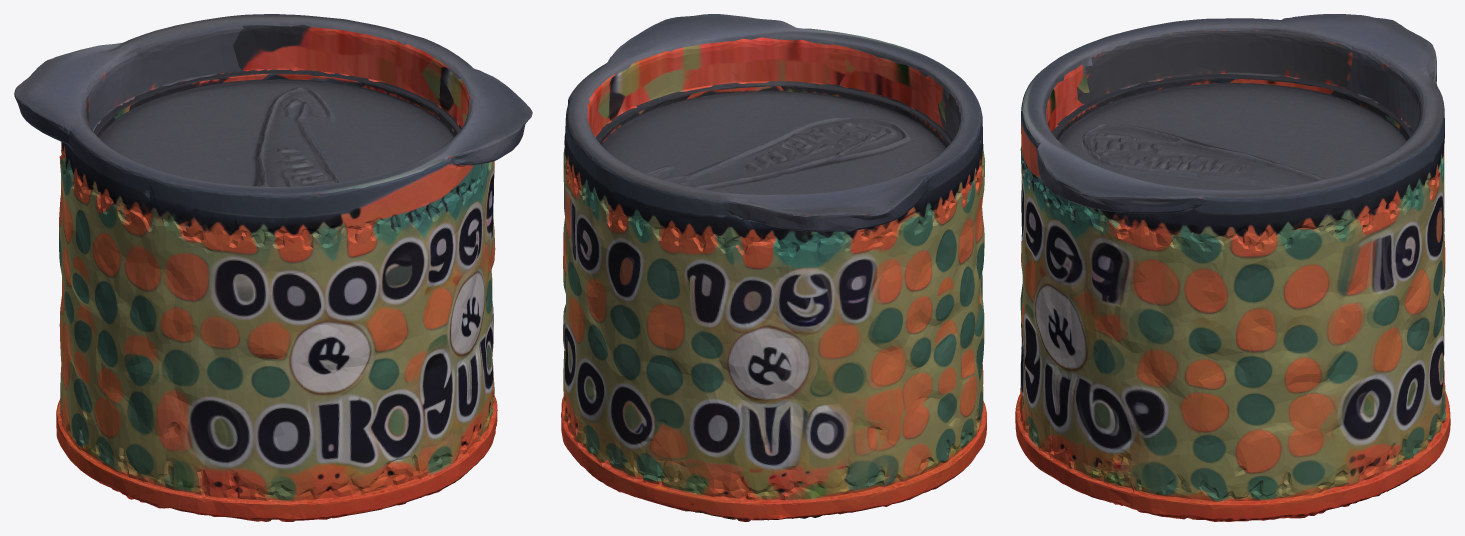
The model's file is image_0003_segmented.glb.
3 views of the same model, side by side, from view 1: azimuth 30°, elevation 25°; view 2: azimuth 150°, elevation 25°; view 3: azimuth 270°, elevation 25° (orthographic). The views are drawn at different scales.
Visible parts, largest first — view 1: tmpyavmoesc.ply; view 2: tmpyavmoesc.ply; view 3: tmpyavmoesc.ply.
Part boxes in pixels (bbox=[...]): tmpyavmoesc.ply: bbox=[14, 14, 532, 521]; tmpyavmoesc.ply: bbox=[561, 14, 986, 521]; tmpyavmoesc.ply: bbox=[1015, 14, 1450, 521].
Size of the model in its own units: 1.99 by 1.64 by 1.98.
1 material, 1 textured.
